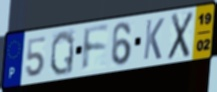5: (24, 35, 48, 79)
6: (110, 21, 134, 69)
F: (82, 23, 111, 74)
K: (142, 17, 165, 62)
Q: (49, 29, 76, 77)
X: (166, 9, 195, 62)
